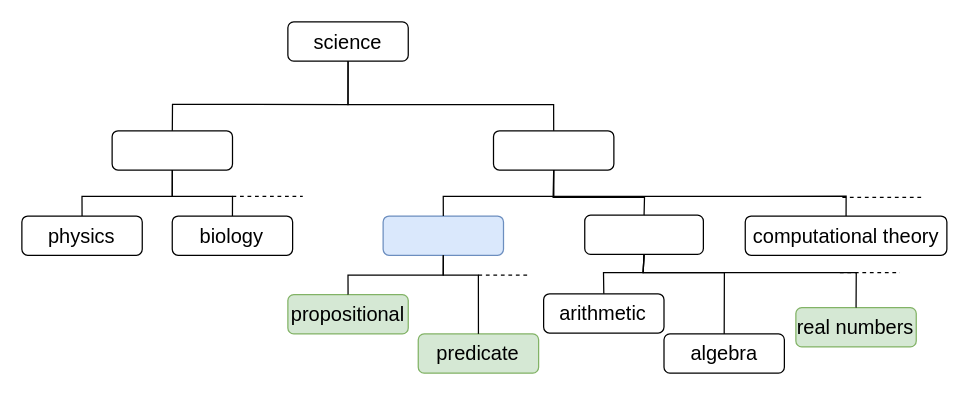
Image size: 969x395. Some labels were removed from this diagram. The centre of each missing label's shape, as x and y in pixels:
"formal" goes at pixel 553 150.
"logic" goes at pixel 443 235.
"mathematics" goes at pixel 643 234.
"natural" goes at pixel 171 150.
